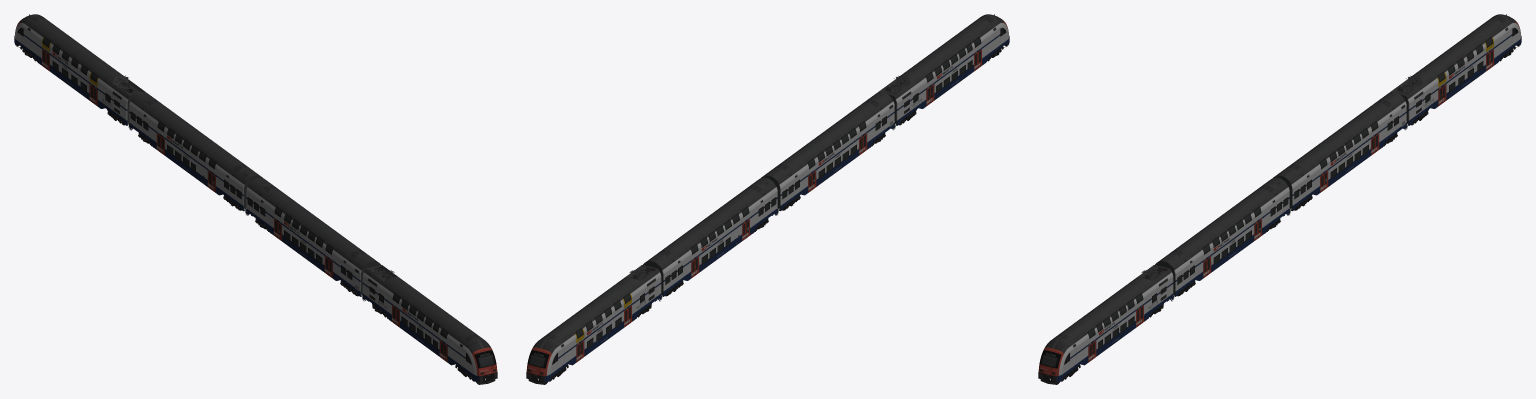
Rendered from SBB RABe 514 DTZ.glb.
3 renders of one model, left to right at view 1: azimuth 30°, elevation 25°; view 2: azimuth 150°, elevation 25°; view 3: azimuth 330°, elevation 25°, orthographic.
Parts seen in each view (by area): view 1: 03_body, 02_body, 01_body, 00_body; view 2: 00_body, 01_body, 02_body, 03_body; view 3: 03_body, 02_body, 01_body, 00_body.
Part boxes in pixels (x1,y1,x2,y2): 03_body: (362,265,497,384); 02_body: (246,177,380,301); 01_body: (129,92,262,215); 00_body: (14,14,145,130); 00_body: (526,265,662,384); 01_body: (643,177,779,296); 02_body: (761,92,895,211); 03_body: (878,14,1009,125); 03_body: (1038,265,1174,384); 02_body: (1155,177,1291,296); 01_body: (1273,92,1407,211); 00_body: (1390,14,1521,125).
Size of the model in its own units: 2.95 by 4.96 by 100.
3 materials, 3 textured.
